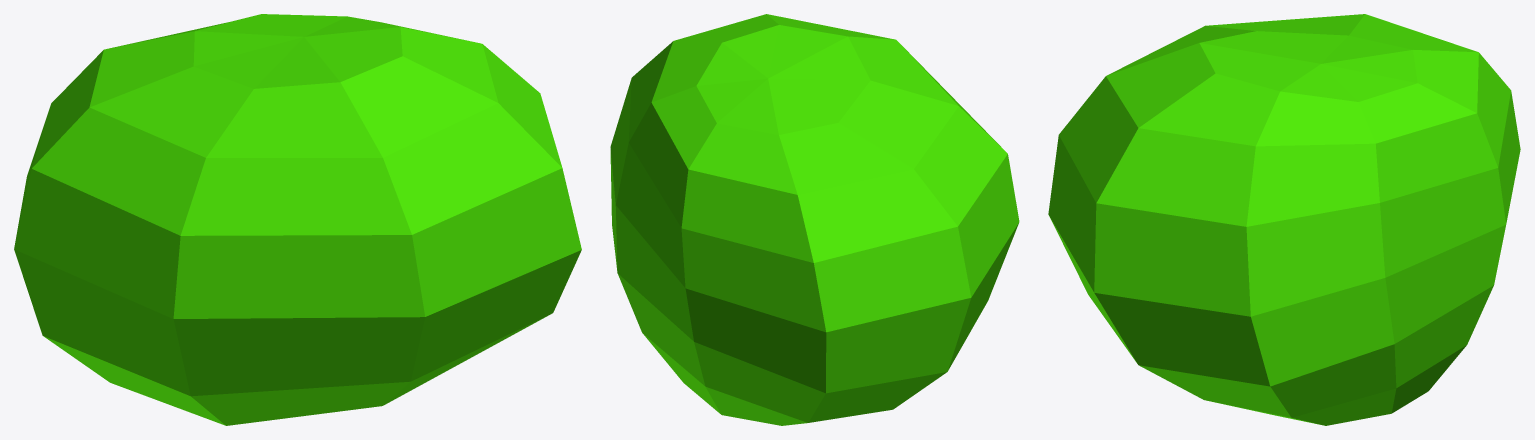
File: AsteroidPowerUp_v1.0.fbx
3 renders of one model, left to right at view 1: azimuth 30°, elevation 25°; view 2: azimuth 150°, elevation 25°; view 3: azimuth 270°, elevation 25°, orthographic. The views are drawn at different scales.
Visible parts, largest first — view 1: pSphere1; view 2: pSphere1; view 3: pSphere1.
Boxes of the visible parts, x1,y1,x2,y2 form: pSphere1: [14, 14, 581, 425]; pSphere1: [610, 14, 1019, 425]; pSphere1: [1048, 14, 1520, 425].
Bounding box in the file's own units: 1.86 × 1.37 × 1.67.
